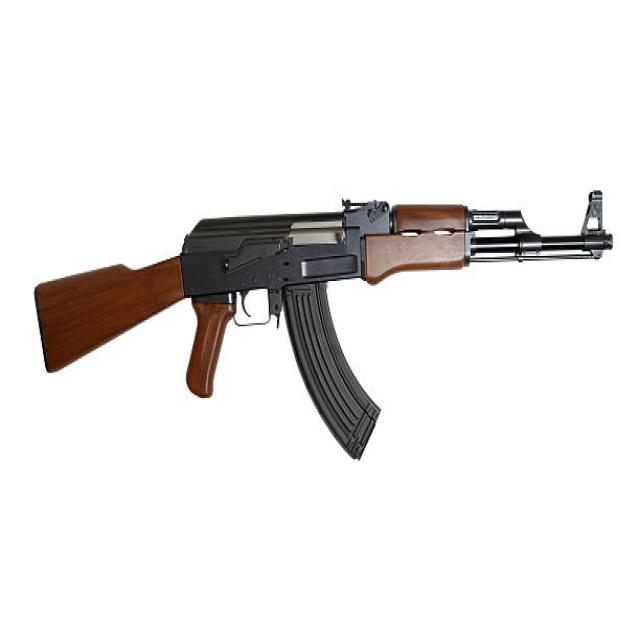rifle: (34, 178, 618, 460)
